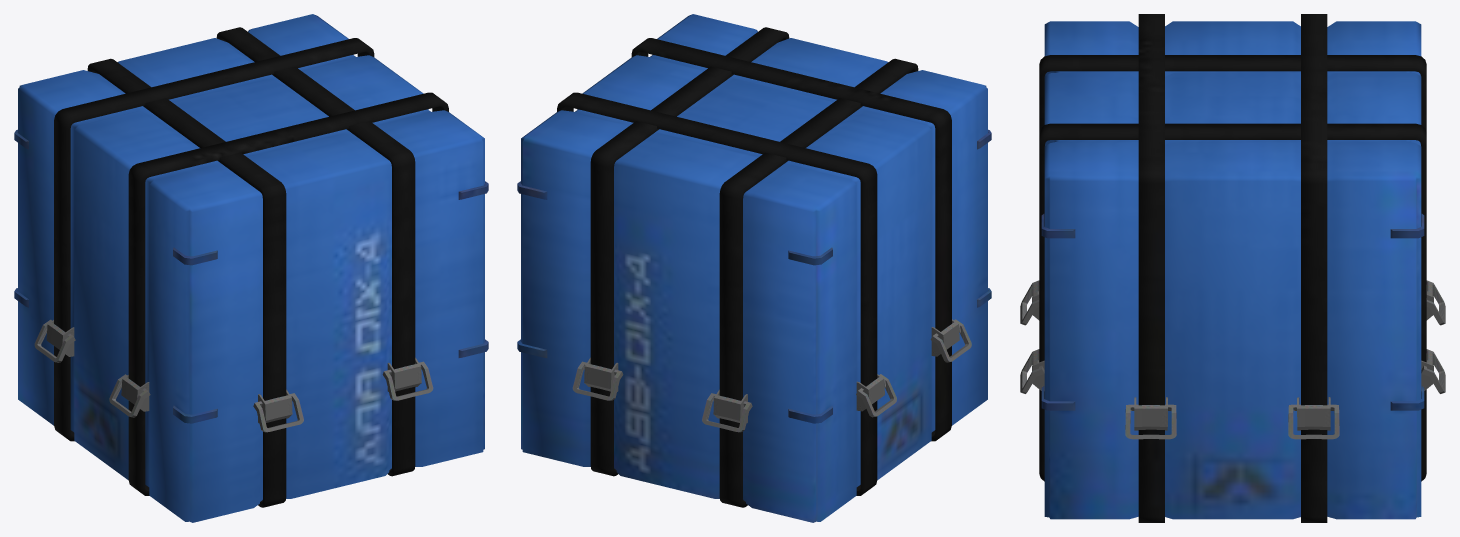
The model's file is crate-tarp.glb.
3 renders of one model, left to right at view 1: azimuth 30°, elevation 25°; view 2: azimuth 150°, elevation 25°; view 3: azimuth 270°, elevation 25°, orthographic. The views are drawn at different scales.
Parts seen in each view (by area): view 1: Prop_Crate_Tarp; view 2: Prop_Crate_Tarp; view 3: Prop_Crate_Tarp.
Boxes of the visible parts, left/top/right/bottom form: Prop_Crate_Tarp: left=14, top=14, right=488, bottom=522; Prop_Crate_Tarp: left=517, top=14, right=991, bottom=522; Prop_Crate_Tarp: left=1020, top=14, right=1445, bottom=522.
Size of the model in its own units: 1.72 by 1.57 by 1.71.
1 material, 1 textured.
